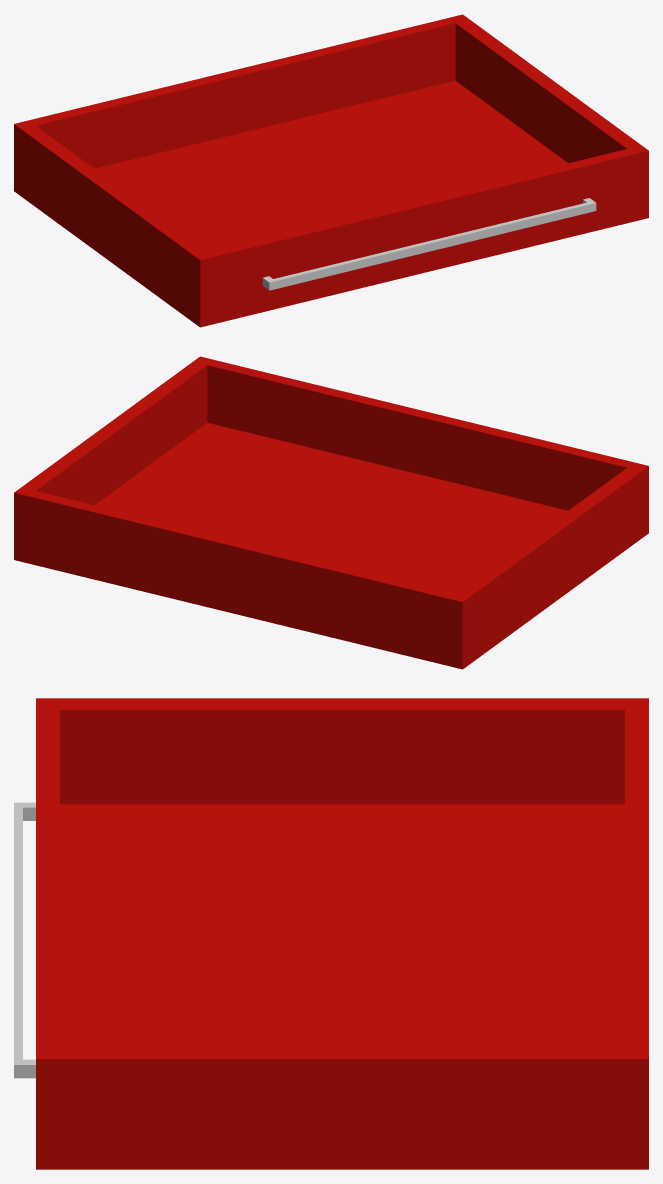
File: Me_Desk_Drawer_2.fbx
The picture shows the model from 3 angles, top to bottom: view 1: azimuth 30°, elevation 25°; view 2: azimuth 150°, elevation 25°; view 3: azimuth 270°, elevation 25°; orthographic projection. The views are drawn at different scales.
Parts seen in each view (by area): view 1: Me_Desk_Drawer_2; view 2: Me_Desk_Drawer_2; view 3: Me_Desk_Drawer_2.
Boxes of the visible parts, x1,y1,x2,y2 form: Me_Desk_Drawer_2: [14, 14, 648, 327]; Me_Desk_Drawer_2: [14, 356, 648, 669]; Me_Desk_Drawer_2: [14, 698, 648, 1169].
Bounding box in the file's own units: 691 × 514 × 98.98.
